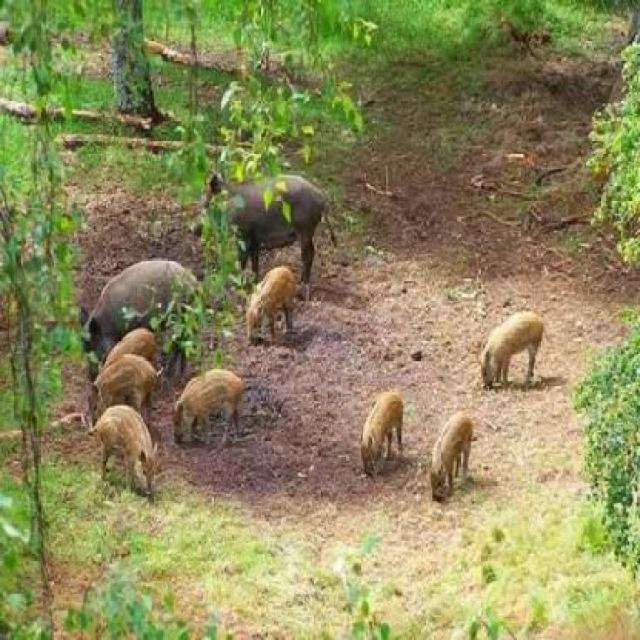Boar: (63, 217, 197, 338), (161, 351, 268, 462), (449, 275, 551, 383), (223, 157, 323, 251), (332, 386, 412, 491), (418, 400, 479, 512), (243, 236, 319, 322), (79, 342, 153, 420), (88, 411, 144, 497), (82, 324, 147, 371)
